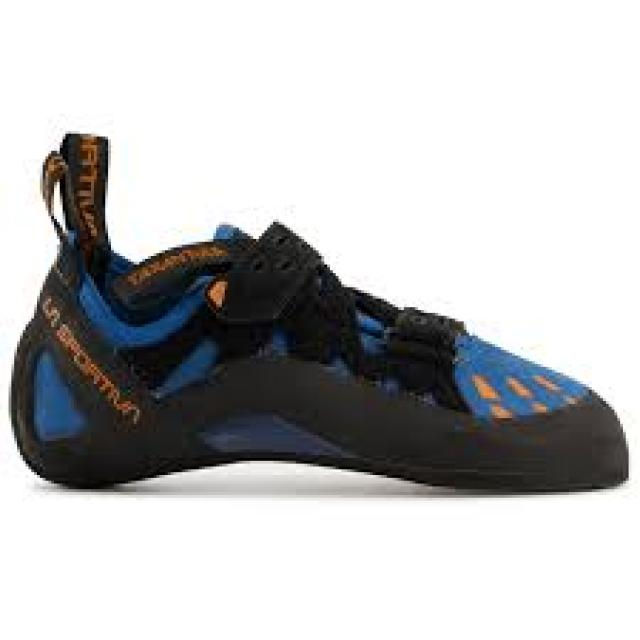climbing-shoes: (9, 133, 631, 498)
